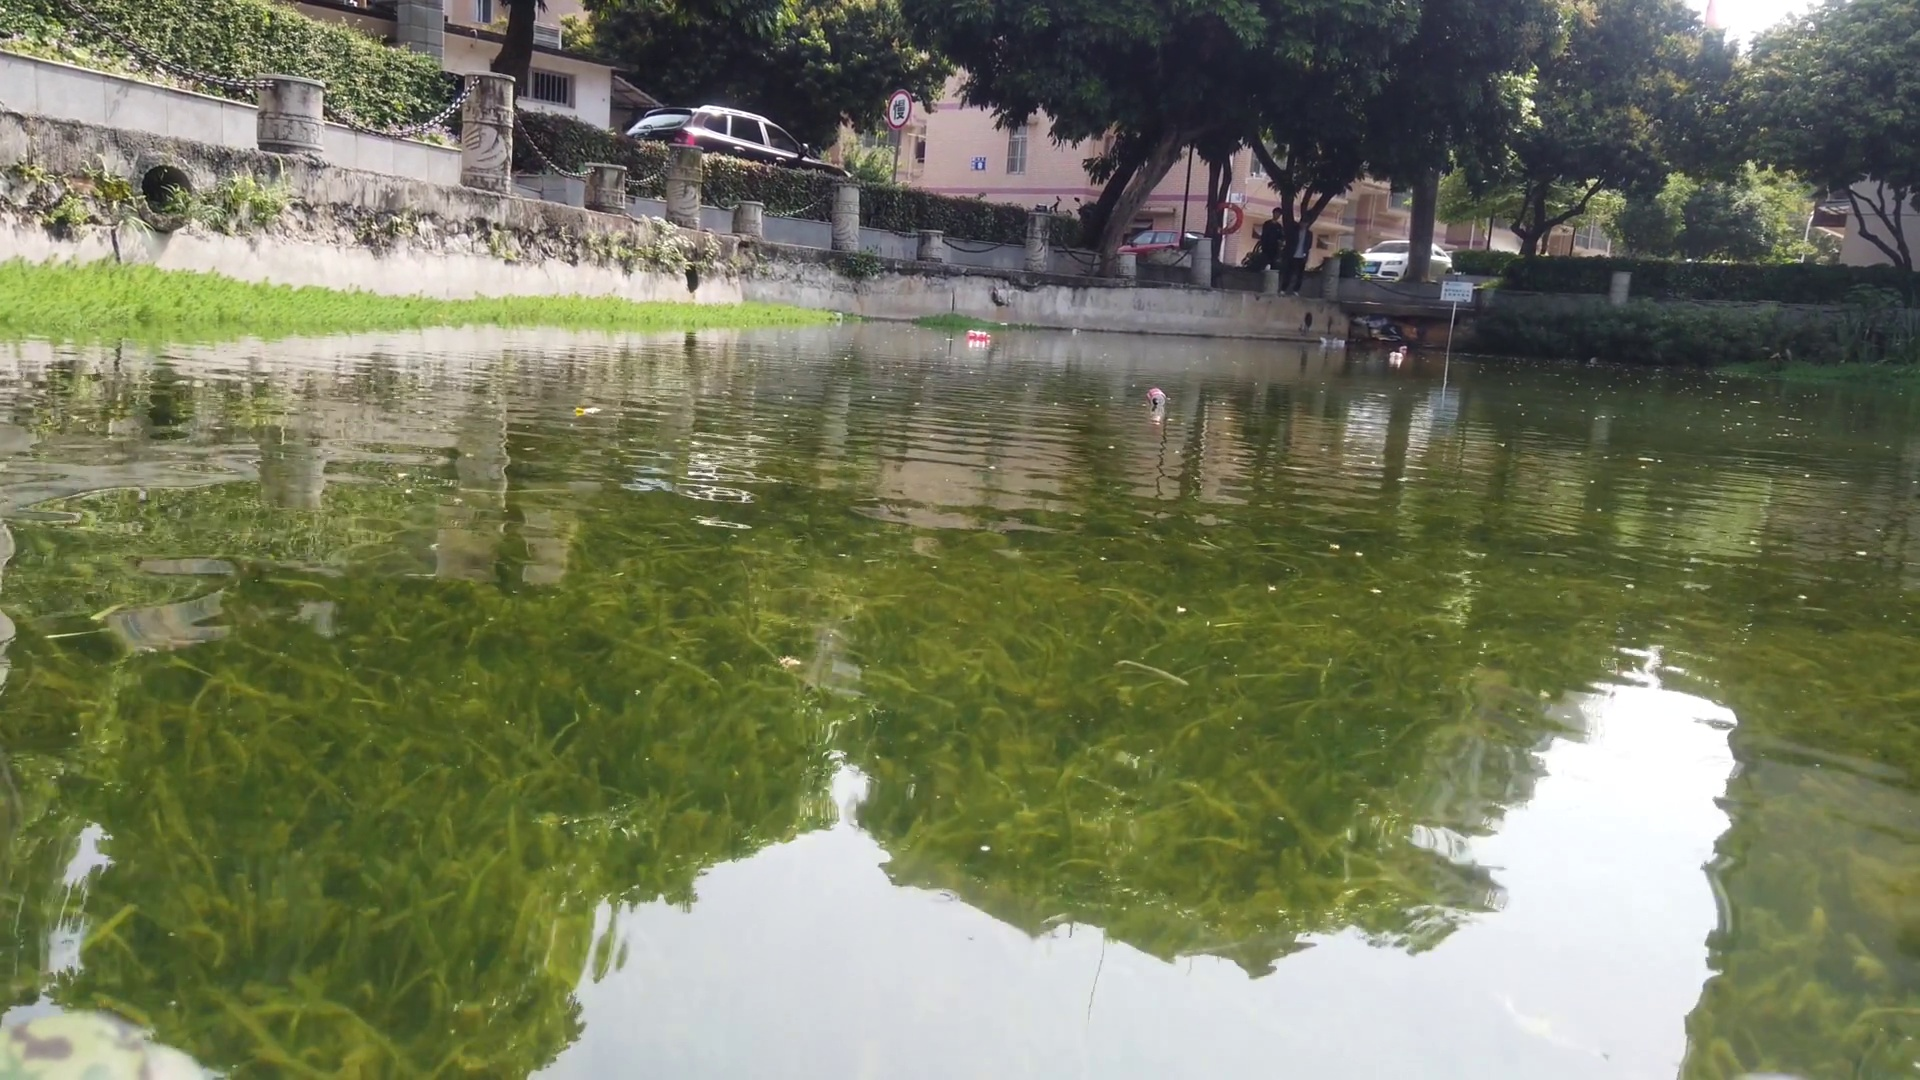bottle: (1146, 385, 1168, 411), (964, 324, 992, 340), (1389, 349, 1404, 364), (1395, 340, 1412, 352)
carton: (1332, 338, 1344, 349)
plastic: (1317, 334, 1337, 349)
